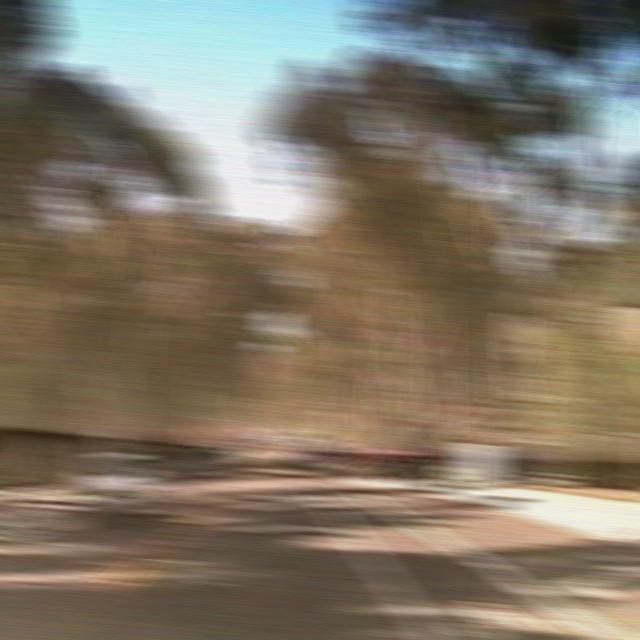stop: (449, 397, 481, 423)
